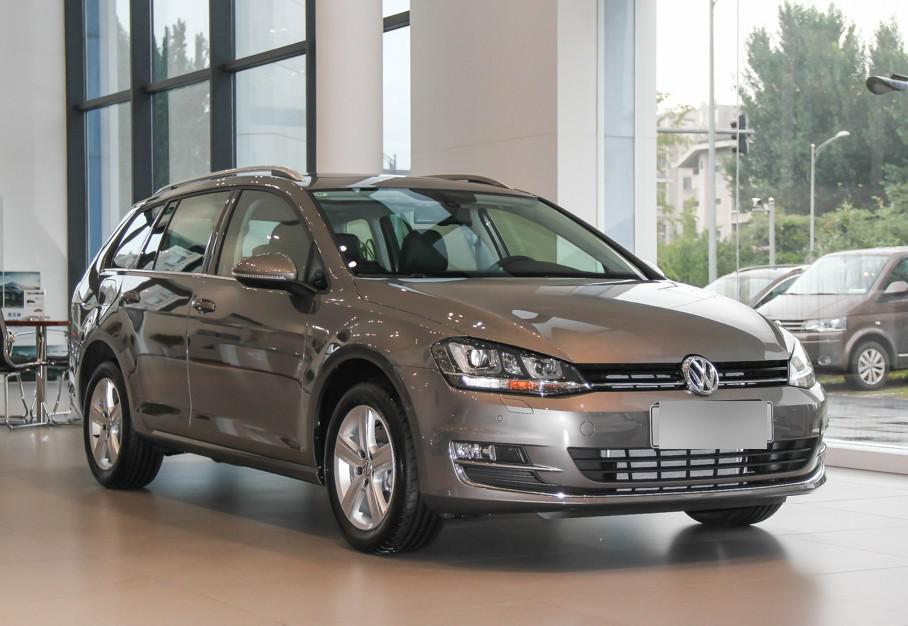Wagon: (67, 165, 830, 555)
